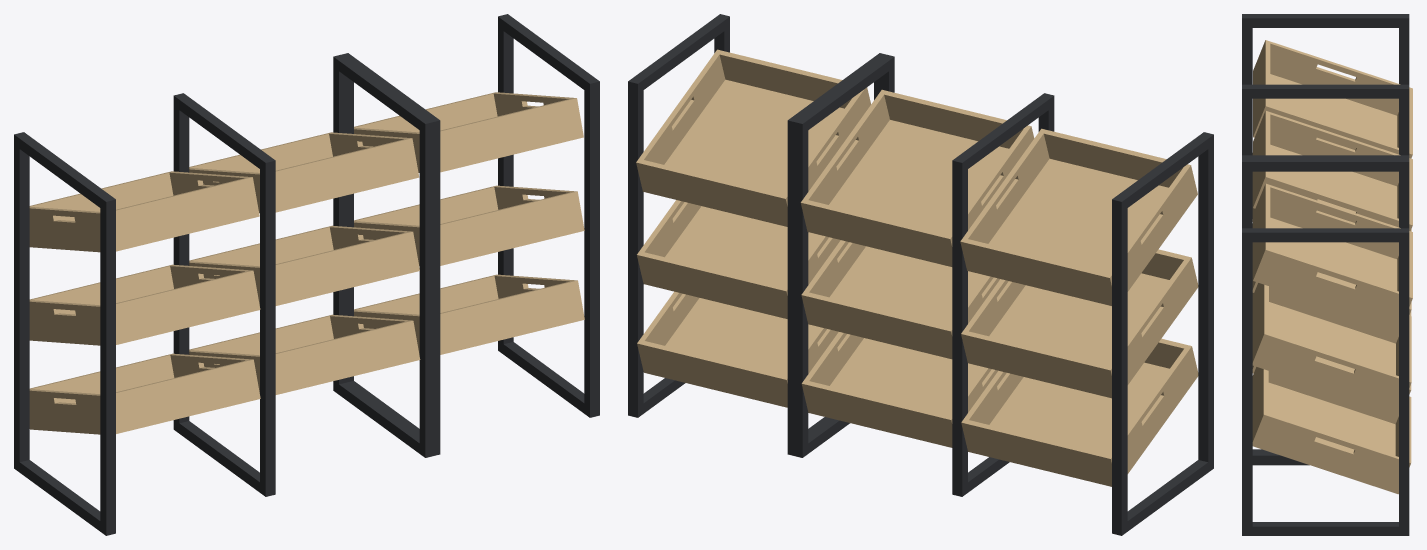
File: shelf2.glb
3 renders of one model, left to right at view 1: azimuth 30°, elevation 25°; view 2: azimuth 150°, elevation 25°; view 3: azimuth 270°, elevation 25°, orthographic. The views are drawn at different scales.
Parts seen in each view (by area): view 1: Shelf-3Parts$$(5)-Local_99, Shelf-3Parts2$$(6)-Local_101, Shelf-3Parts2$$(7)-Local_103, Shelf-3Parts2$$(8)-Local_105, Shelf-3Parts$$(3)-Local_87, Shelf-3Parts-Local_73, Shelf-3Parts2$$(4)-Local_91, Shelf-3Parts2$$(3)-Local_89, Shelf-3Parts2$$(1)-Local_79, Shelf-3Parts2-Local_77, Shelf-3Parts2$$(5)-Local_93, Shelf-3Parts2$$(2)-Local_81 (+2 smaller); view 2: Shelf-3Parts2$$(8)-Local_105, Shelf-3Parts2$$(5)-Local_93, Shelf-3Parts2$$(2)-Local_81, Shelf-3Parts2$$(7)-Local_103, Shelf-3Parts2$$(6)-Local_101, Shelf-3Parts$$(5)-Local_99, Shelf-3Parts2$$(4)-Local_91, Shelf-3Parts2$$(1)-Local_79, Shelf-3Parts2$$(3)-Local_89, Shelf-3Parts2-Local_77, Shelf-3Parts-Local_73, Shelf-3Parts$$(2)-Local_85 (+3 smaller); view 3: Shelf-3Parts2$$(2)-Local_81, Shelf-3Parts2$$(1)-Local_79, Shelf-3Parts2-Local_77, Shelf-3Parts-Local_73, Shelf-3Parts2$$(5)-Local_93, Shelf-3Parts2$$(8)-Local_105, Shelf-3Parts$$(1)-Local_75, Shelf-3Parts$$(5)-Local_99, Shelf-3Parts$$(4)-Local_97, Shelf-3Parts$$(3)-Local_87, Shelf-3Parts$$(2)-Local_85.
Part boxes in pixels (bbox=[...]): Shelf-3Parts$$(5)-Local_99: bbox=[14, 132, 115, 535]; Shelf-3Parts2$$(6)-Local_101: bbox=[29, 353, 260, 434]; Shelf-3Parts2$$(7)-Local_103: bbox=[29, 264, 260, 345]; Shelf-3Parts2$$(8)-Local_105: bbox=[29, 171, 259, 252]; Shelf-3Parts$$(3)-Local_87: bbox=[173, 93, 275, 496]; Shelf-3Parts-Local_73: bbox=[498, 14, 599, 417]; Shelf-3Parts2$$(4)-Local_91: bbox=[189, 225, 419, 305]; Shelf-3Parts2$$(3)-Local_89: bbox=[189, 314, 420, 394]; Shelf-3Parts2$$(1)-Local_79: bbox=[354, 185, 584, 265]; Shelf-3Parts2-Local_77: bbox=[354, 274, 584, 354]; Shelf-3Parts2$$(5)-Local_93: bbox=[189, 132, 419, 213]; Shelf-3Parts2$$(2)-Local_81: bbox=[354, 92, 583, 172]; Shelf-3Parts2$$(8)-Local_105: bbox=[960, 128, 1197, 305]; Shelf-3Parts2$$(5)-Local_93: bbox=[800, 89, 1034, 266]; Shelf-3Parts2$$(2)-Local_81: bbox=[636, 49, 870, 226]; Shelf-3Parts2$$(7)-Local_103: bbox=[961, 249, 1198, 398]; Shelf-3Parts2$$(6)-Local_101: bbox=[961, 338, 1198, 486]; Shelf-3Parts$$(5)-Local_99: bbox=[1112, 132, 1213, 535]; Shelf-3Parts2$$(4)-Local_91: bbox=[801, 240, 999, 359]; Shelf-3Parts2$$(1)-Local_79: bbox=[637, 200, 840, 318]; Shelf-3Parts2$$(3)-Local_89: bbox=[801, 332, 997, 447]; Shelf-3Parts2-Local_77: bbox=[637, 291, 838, 407]; Shelf-3Parts-Local_73: bbox=[628, 14, 729, 417]; Shelf-3Parts$$(2)-Local_85: bbox=[792, 55, 894, 457]; Shelf-3Parts2$$(2)-Local_81: bbox=[1253, 183, 1412, 328]; Shelf-3Parts2$$(1)-Local_79: bbox=[1252, 283, 1411, 413]; Shelf-3Parts2-Local_77: bbox=[1252, 367, 1411, 494]; Shelf-3Parts-Local_73: bbox=[1242, 228, 1409, 535]; Shelf-3Parts2$$(5)-Local_93: bbox=[1253, 110, 1412, 231]; Shelf-3Parts2$$(8)-Local_105: bbox=[1253, 40, 1412, 158]; Shelf-3Parts$$(1)-Local_75: bbox=[1242, 157, 1409, 465]; Shelf-3Parts$$(5)-Local_99: bbox=[1242, 14, 1409, 84]; Shelf-3Parts$$(4)-Local_97: bbox=[1242, 89, 1409, 155]; Shelf-3Parts$$(3)-Local_87: bbox=[1242, 84, 1409, 88]; Shelf-3Parts$$(2)-Local_85: bbox=[1242, 155, 1409, 451].
Bounding box in the file's own units: 1.99 × 1.29 × 0.657.
Materials: 15 (15 with a texture image).
